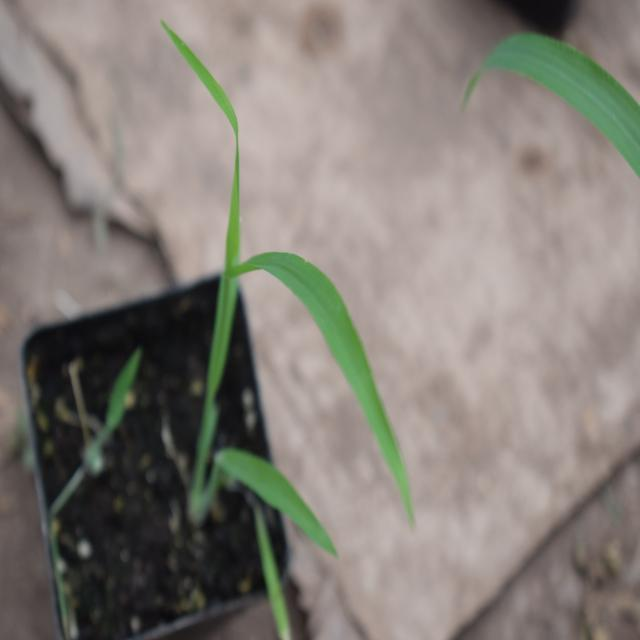crabgrass: (132, 57, 409, 574)
